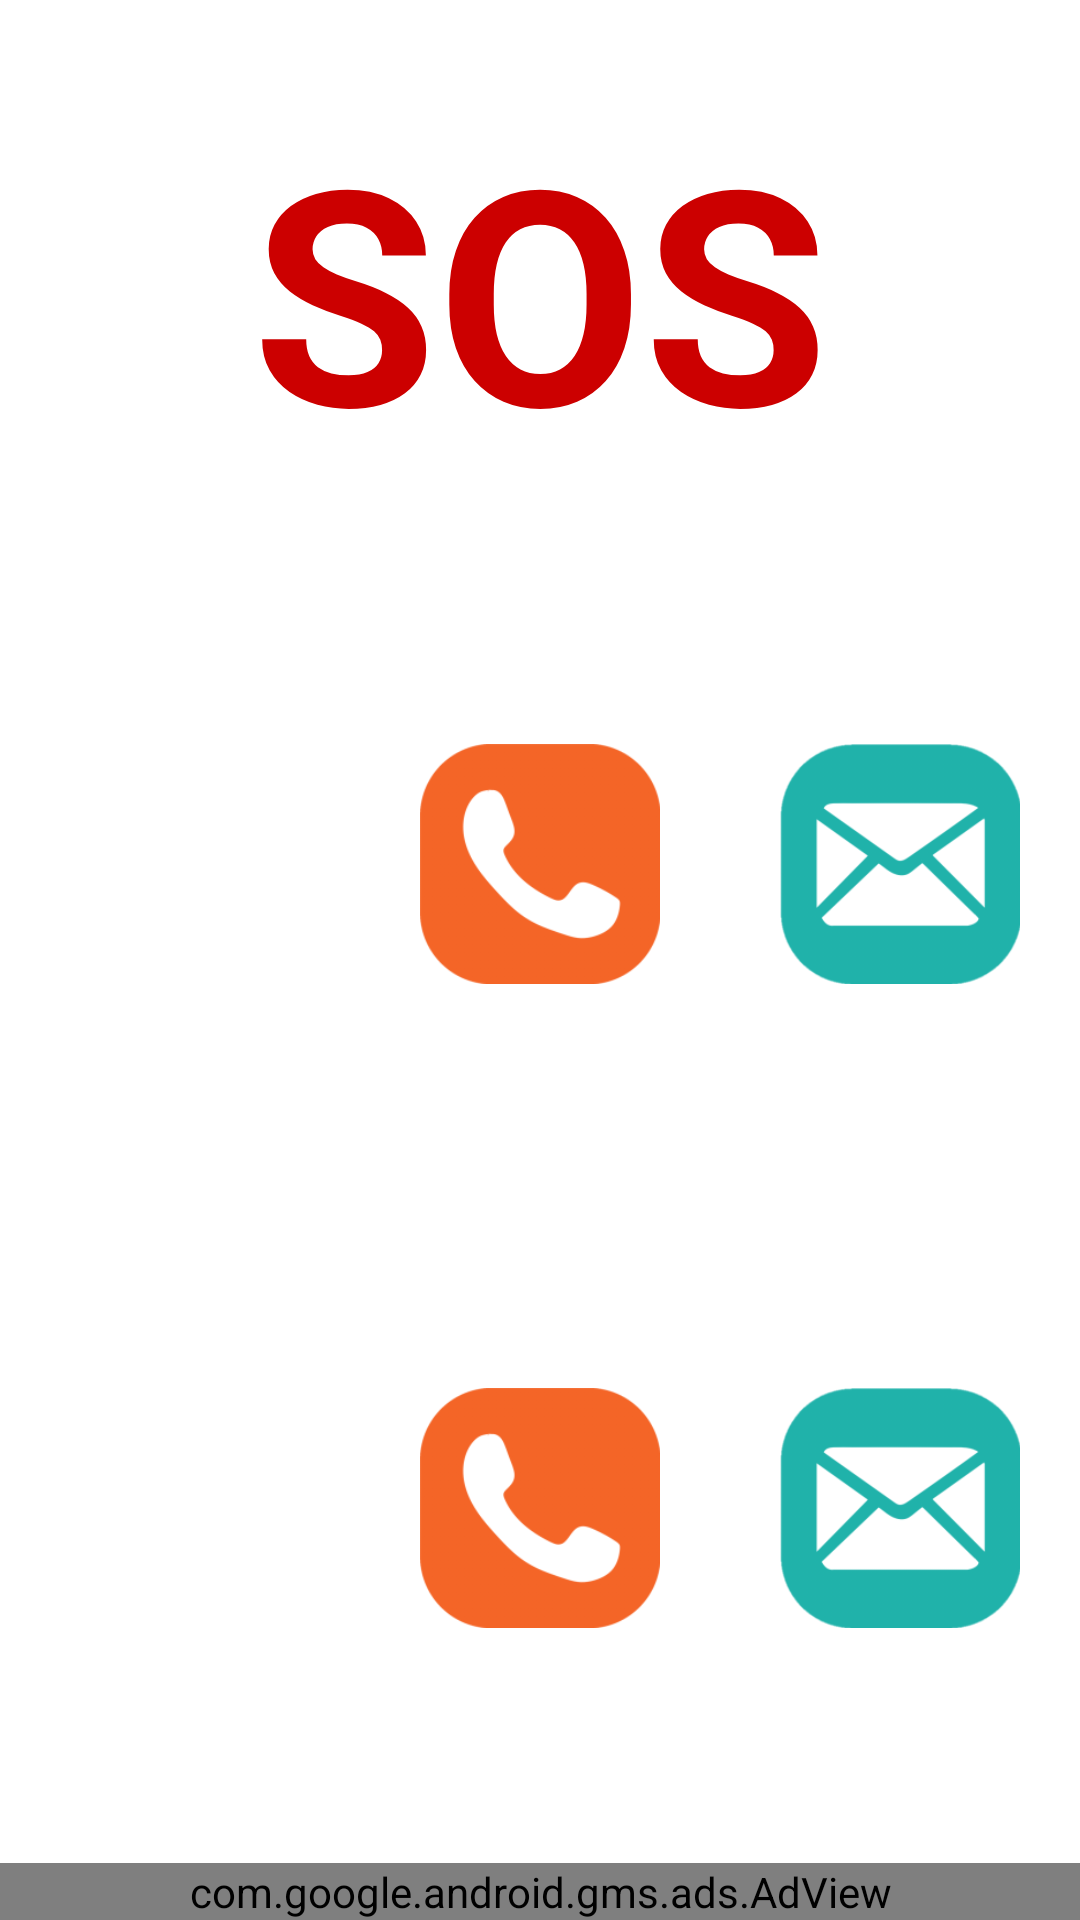

Icon click points for this 1080 × 1920 phone screenshot, format (x=x, y=y):
mensagens: (x=900, y=864), (x=900, y=1508)
